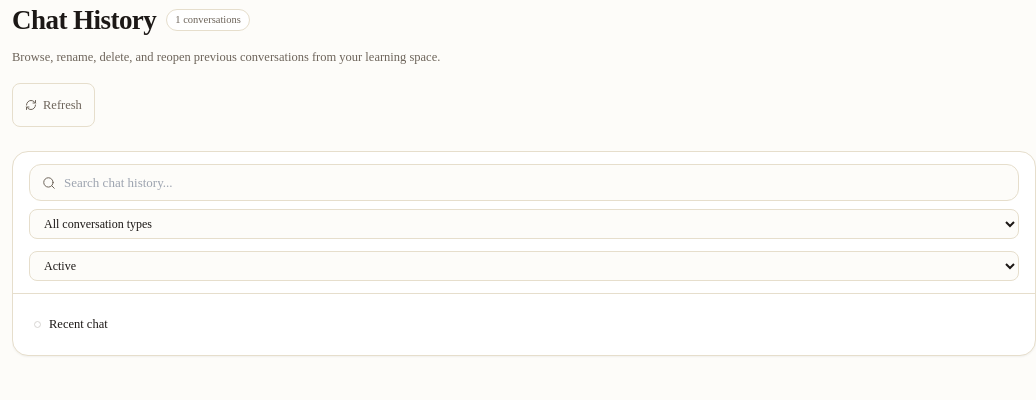
reports a failed transcript search and retries the same query
Type "Bayes" into the field with placeholder "Search chat history..." at point(535, 183), box [64,173,1006,192]
Wait 300 ms
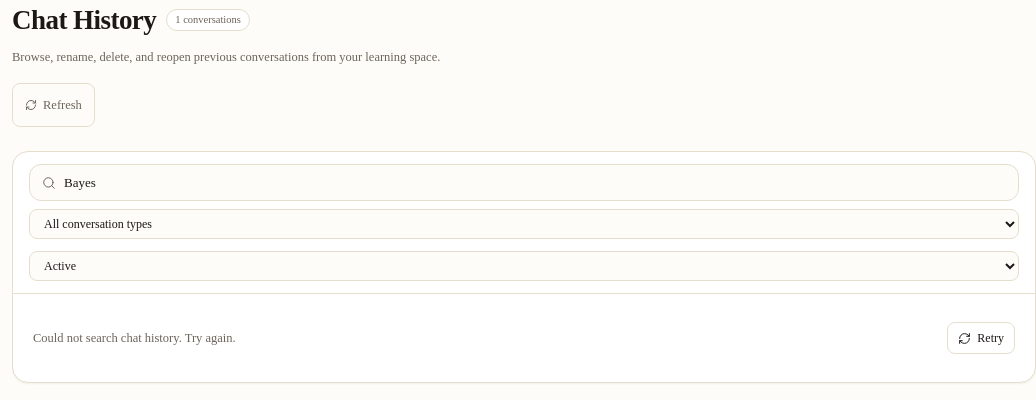
Result: the message shows "Could not search chat history. Try again." at [33,331,236,345]
Click the button "Retry" at point(981, 338), box [947,322,1015,354]
Wait 300 ms
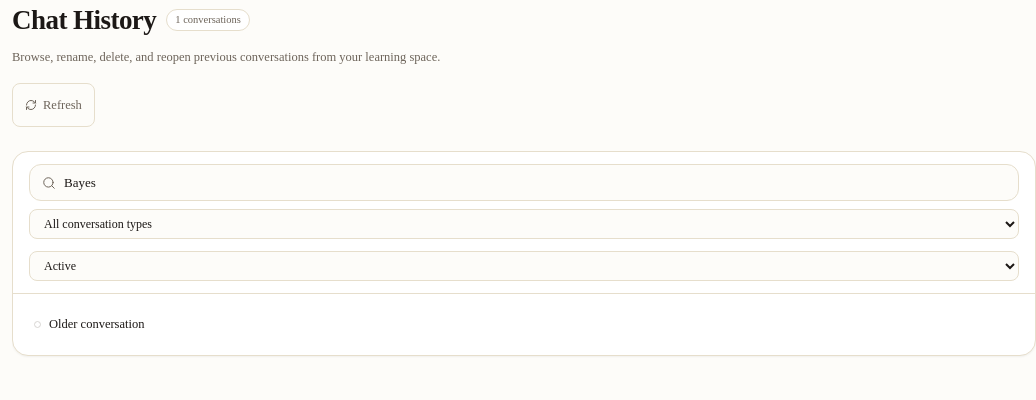
Result: the message "Could not search chat history. Try again. Retry" is gone
Result: the text "Older conversation" is shown at [49,317,144,331]
